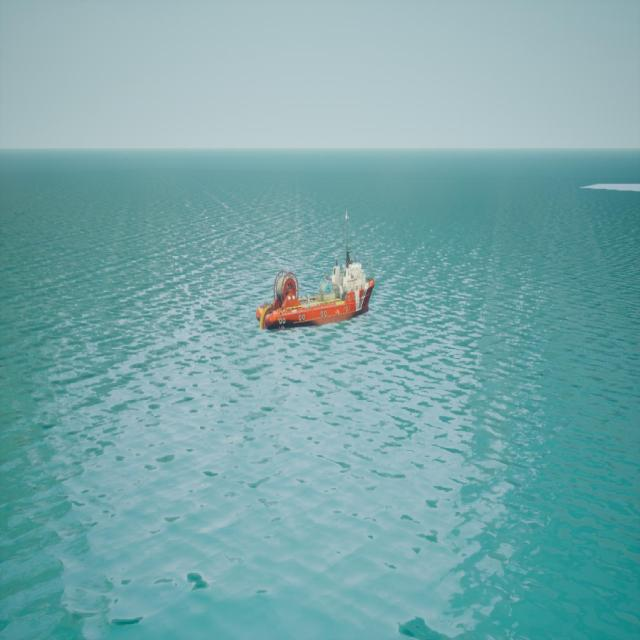tug boat: (259, 217, 377, 335)
